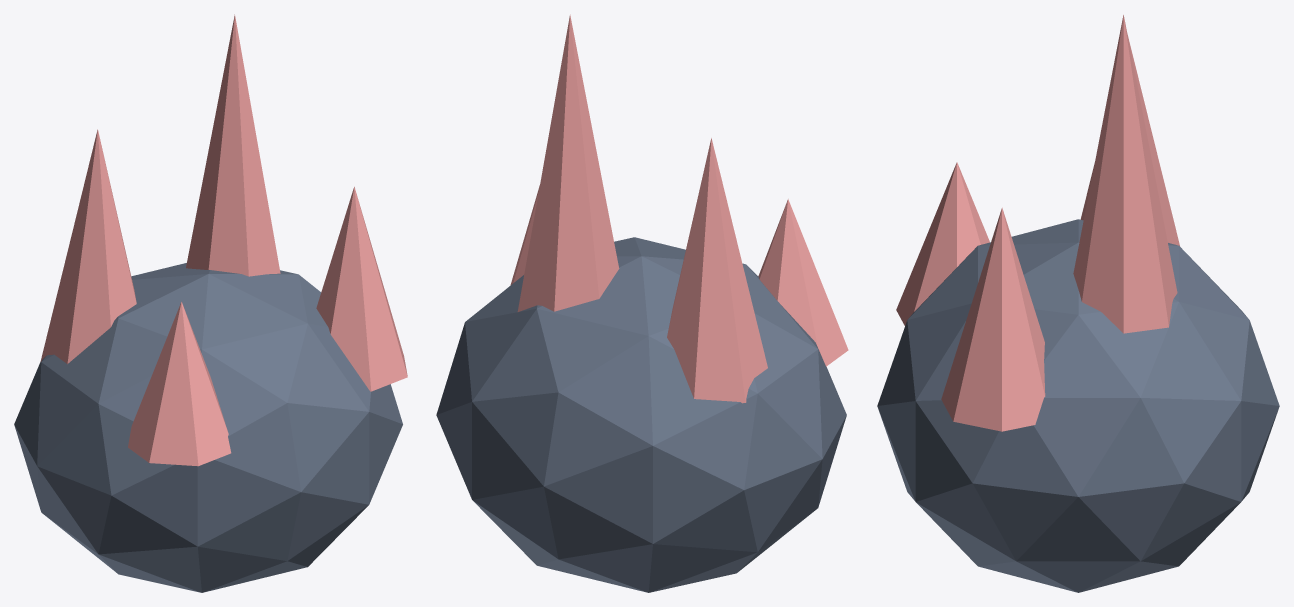
The model's file is ore_Prometid.glb.
3 views of the same model, side by side, from view 1: azimuth 30°, elevation 25°; view 2: azimuth 150°, elevation 25°; view 3: azimuth 270°, elevation 25° (orthographic). The views are drawn at different scales.
Parts seen in each view (by area): view 1: rock, crystal_1, crystal_0, crystal_3, crystal_2; view 2: rock, crystal_1, crystal_0, crystal_3, crystal_2; view 3: rock, crystal_1, crystal_2, crystal_3, crystal_0.
Part boxes in pixels (x1,y1,x2,y2): rock: [14, 263, 402, 592]; crystal_1: [186, 14, 280, 276]; crystal_0: [40, 129, 136, 363]; crystal_3: [128, 301, 231, 466]; crystal_2: [316, 186, 407, 391]; rock: [436, 237, 846, 592]; crystal_1: [517, 14, 619, 311]; crystal_0: [667, 138, 767, 403]; crystal_3: [758, 199, 848, 366]; crystal_2: [510, 185, 539, 285]; rock: [877, 219, 1279, 592]; crystal_1: [1073, 15, 1177, 333]; crystal_2: [941, 207, 1045, 431]; crystal_3: [896, 162, 989, 325]; crystal_0: [1080, 35, 1179, 245].
Bounding box in the file's own units: 1.24 × 1.85 × 1.16.
